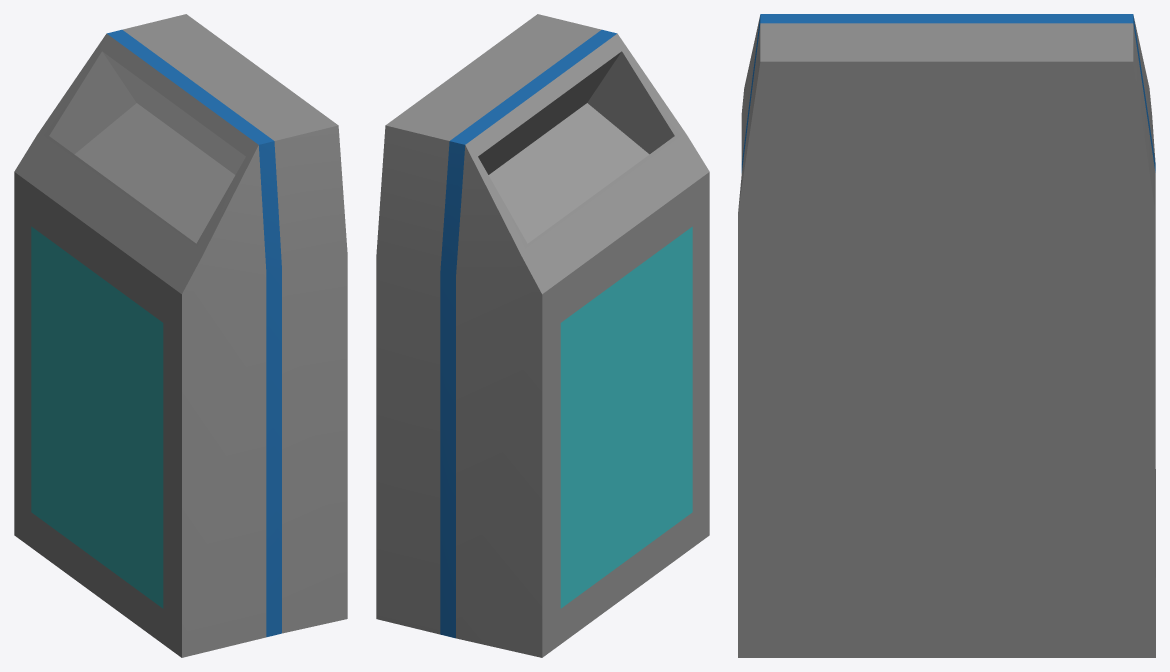
Rendered from trashcan.fbx.
3 renders of one model, left to right at view 1: azimuth 30°, elevation 25°; view 2: azimuth 150°, elevation 25°; view 3: azimuth 270°, elevation 25°, orthographic. The views are drawn at different scales.
Parts seen in each view (by area): view 1: trashcan; view 2: trashcan; view 3: trashcan.
Boxes of the visible parts, left/top/right/bottom form: trashcan: left=14, top=14, right=347, bottom=657; trashcan: left=376, top=14, right=709, bottom=657; trashcan: left=738, top=14, right=1155, bottom=657.
Bounding box in the file's own units: 0.4413 × 1.24 × 0.7895.
